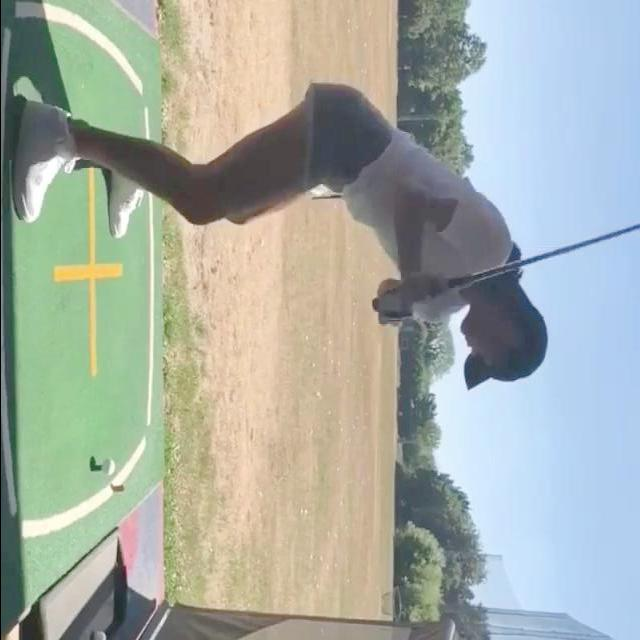golf ball: (99, 459, 114, 477), (90, 629, 105, 640)
golf club-handle: (371, 223, 640, 312)
